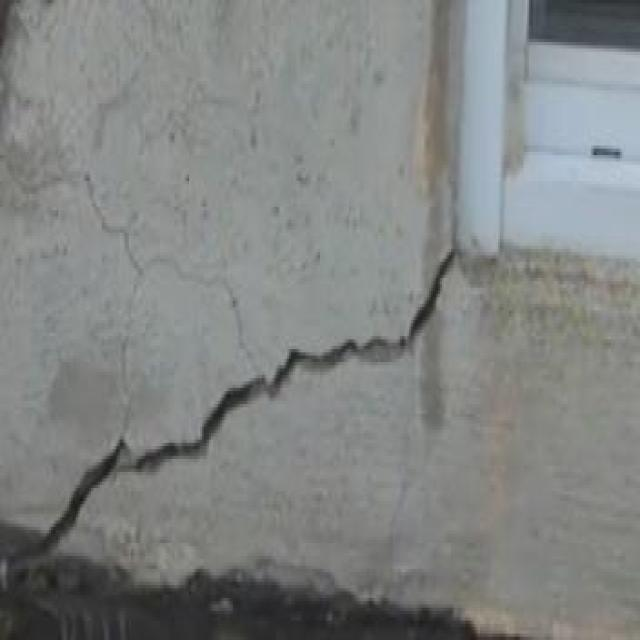crack: (10, 248, 453, 567)
